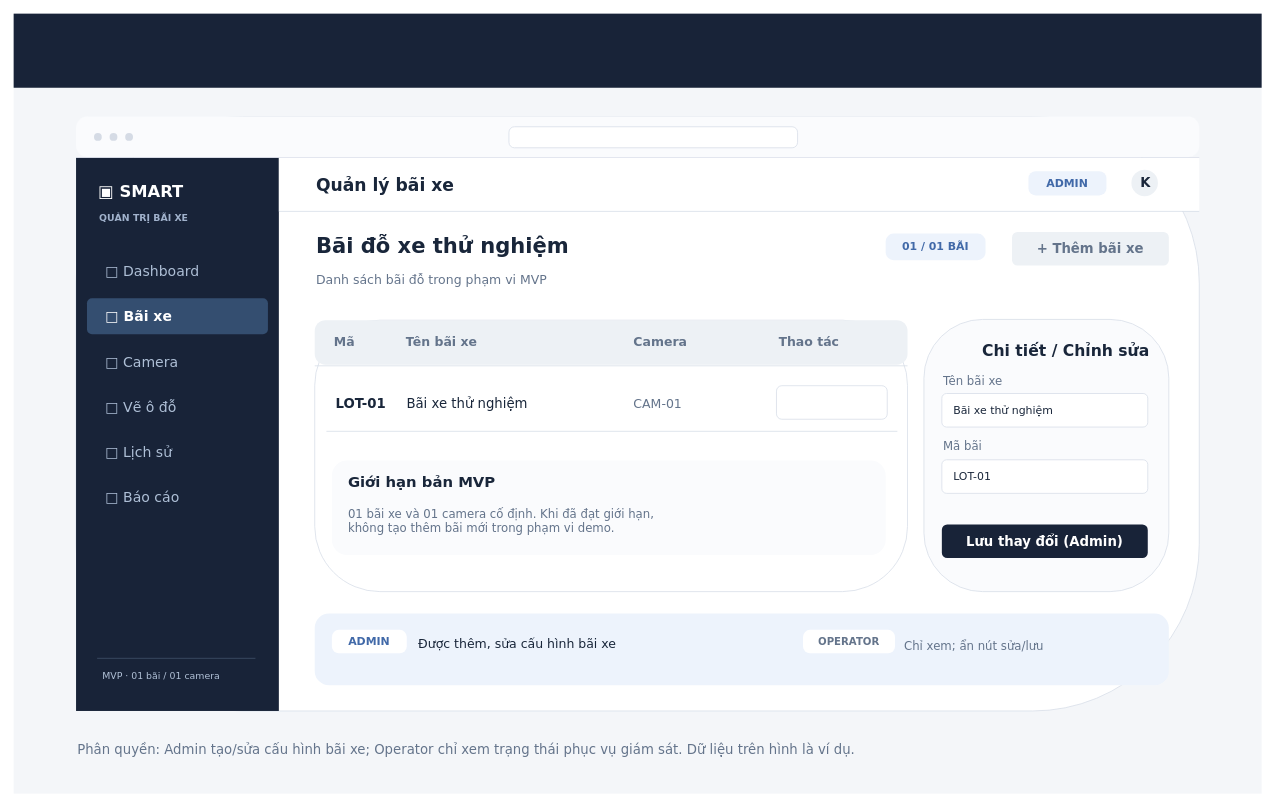
The diagram is 1275 pixels wide and 807 high, and some of its shapes have lost their labels. Here are the shapes that lost their labels. From the top down, the centre of each, then its label:
At pixel 653 137: "ai-smart-parking.local / parking-lots".
At pixel 831 402: "Xem / Sửa".
